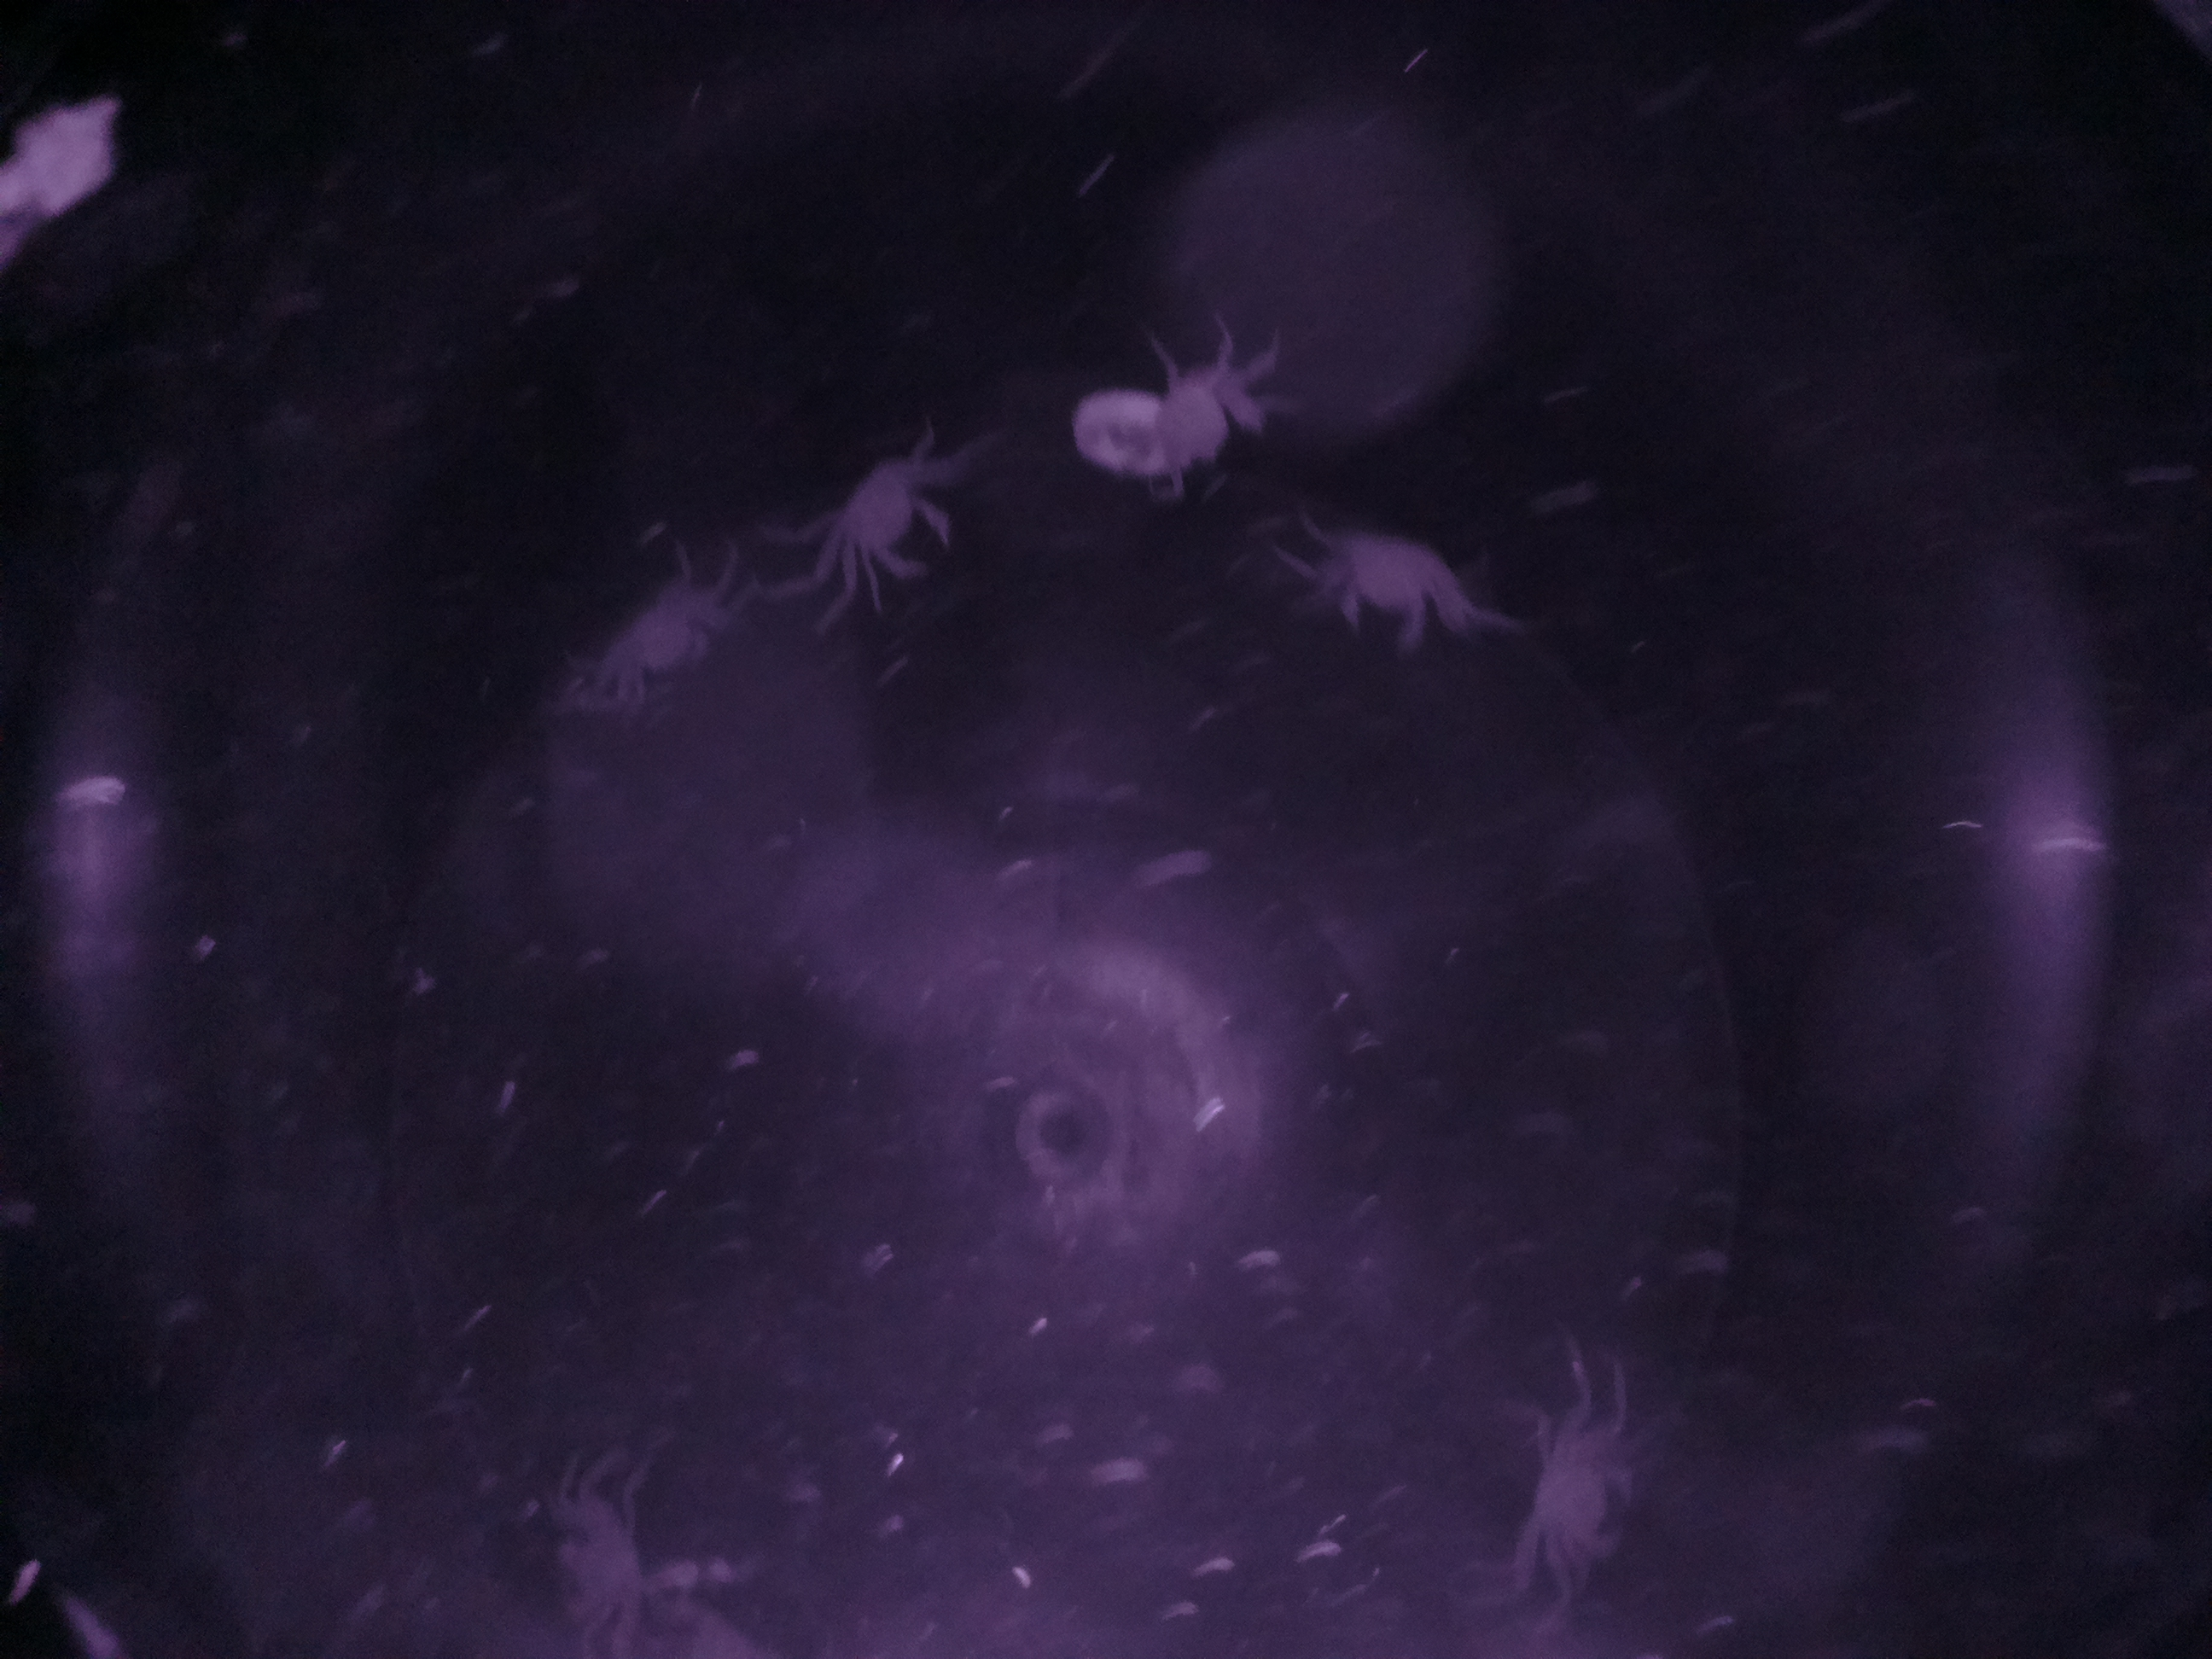Crab: (1491, 1399, 1674, 1593), (1285, 493, 1475, 659), (819, 430, 967, 594)
